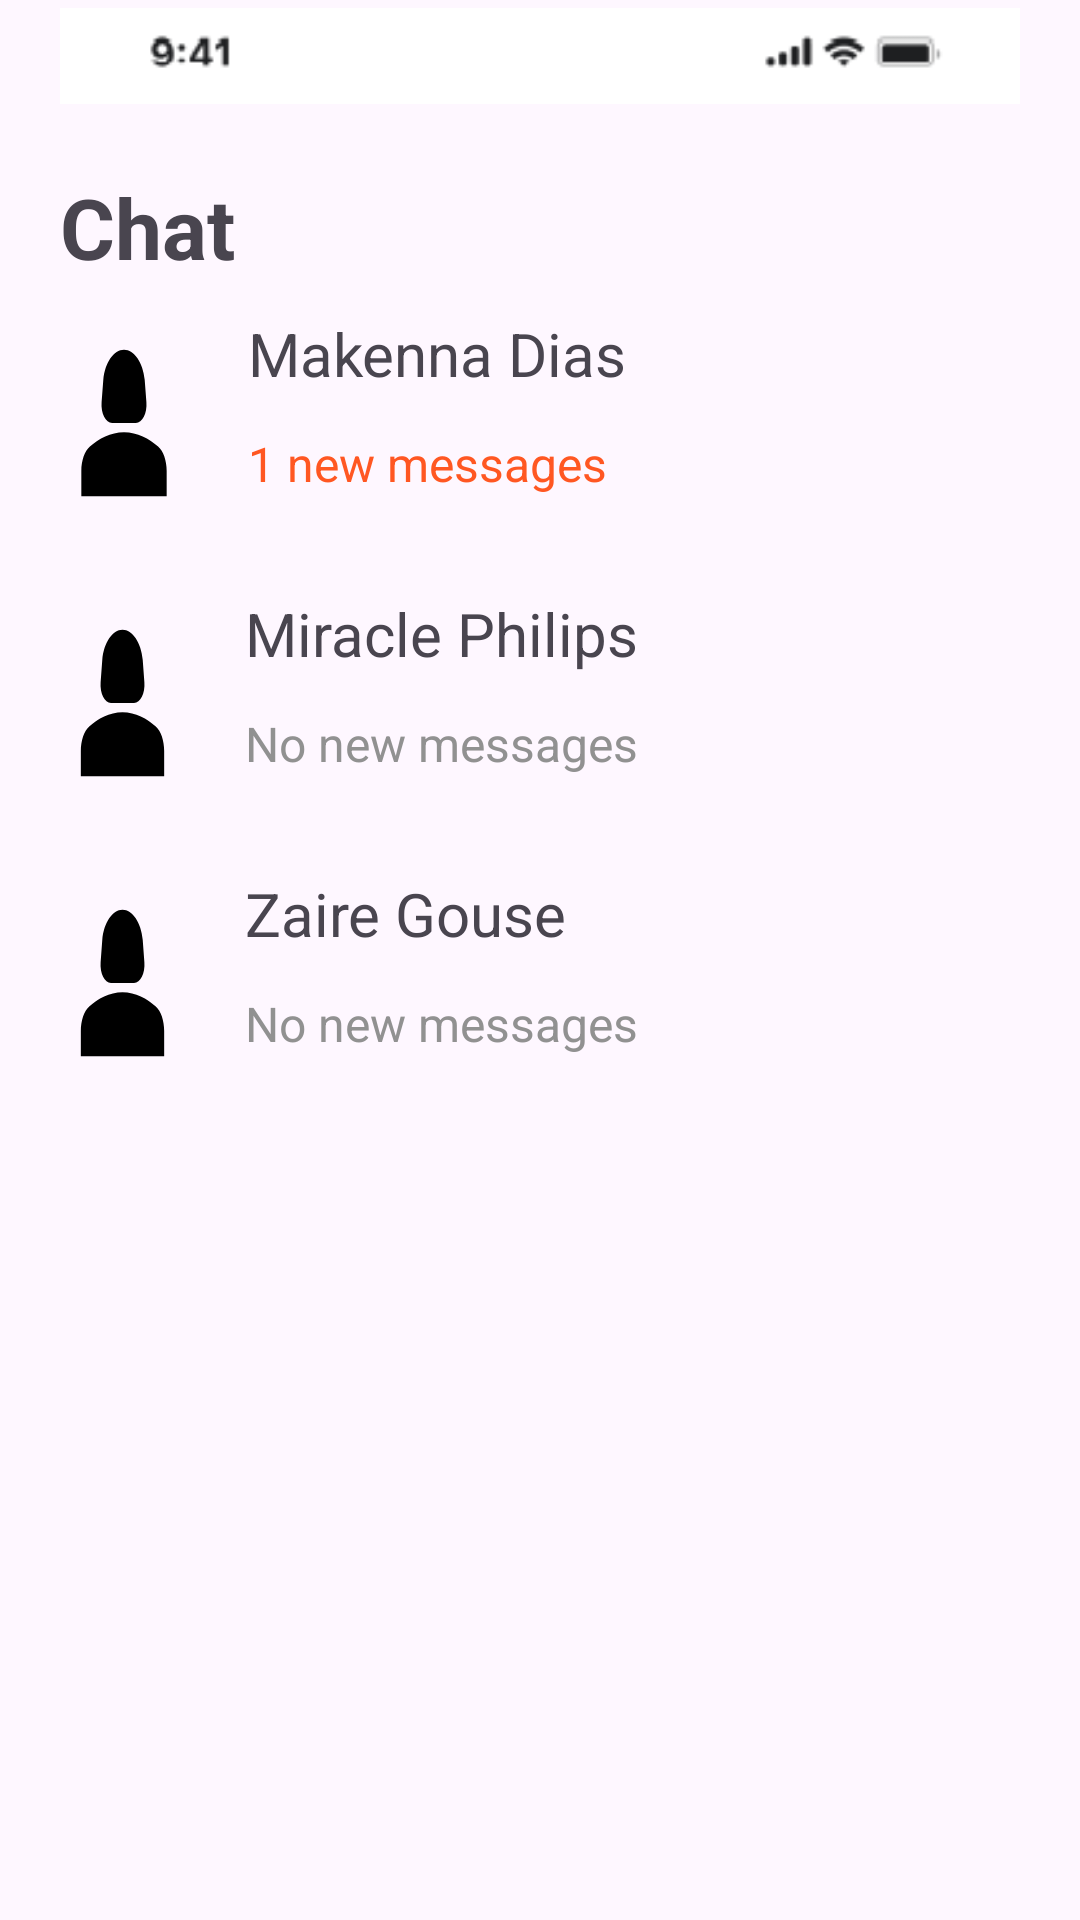

Where icons sit on this 1080 × 1920 app screen, as (x1, y1, x2, y2):
person: (81, 349, 167, 497), (80, 629, 165, 777), (80, 909, 165, 1057)
